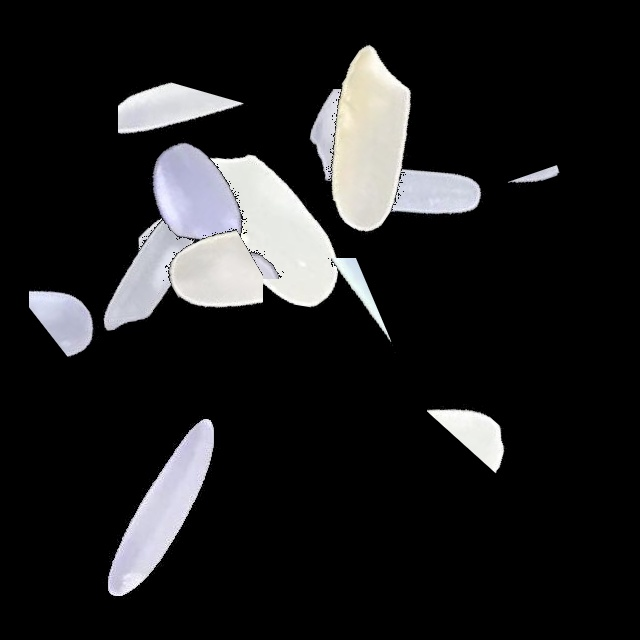Broken: (224, 89, 474, 243), (85, 189, 335, 331), (118, 30, 251, 280), (131, 170, 263, 420), (29, 163, 147, 413), (193, 258, 443, 370), (460, 109, 560, 359), (427, 267, 512, 517), (152, 196, 402, 279)
Full: (126, 102, 376, 352), (25, 144, 275, 394), (37, 383, 287, 633), (289, 60, 539, 310), (242, 14, 492, 264), (72, 73, 322, 323)
